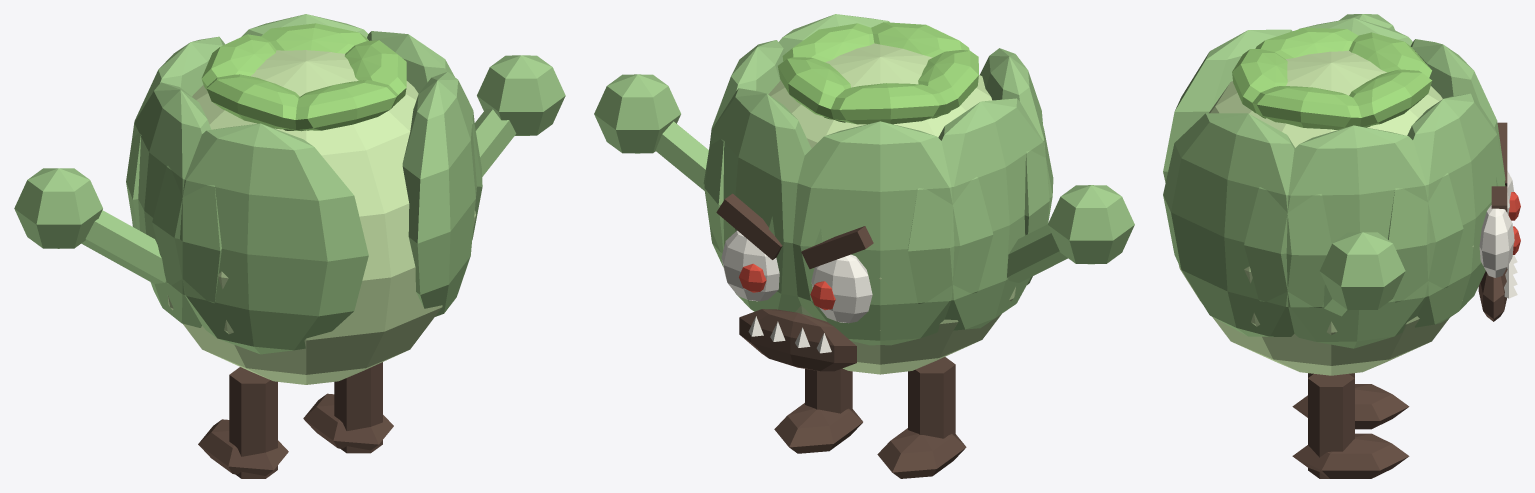
The model's file is CabbageBoss.fbx.
3 views of the same model, side by side, from view 1: azimuth 30°, elevation 25°; view 2: azimuth 150°, elevation 25°; view 3: azimuth 270°, elevation 25° (orthographic). The views are drawn at different scales.
Visible parts, largest first — view 1: CabbageBoss; view 2: CabbageBoss; view 3: CabbageBoss.
Part boxes in pixels (left/top/right/bottom): CabbageBoss: left=14, top=14, right=565, bottom=478; CabbageBoss: left=594, top=14, right=1134, bottom=478; CabbageBoss: left=1163, top=14, right=1520, bottom=478.
Bounding box in the file's own units: 4.23 × 3.06 × 2.56.
